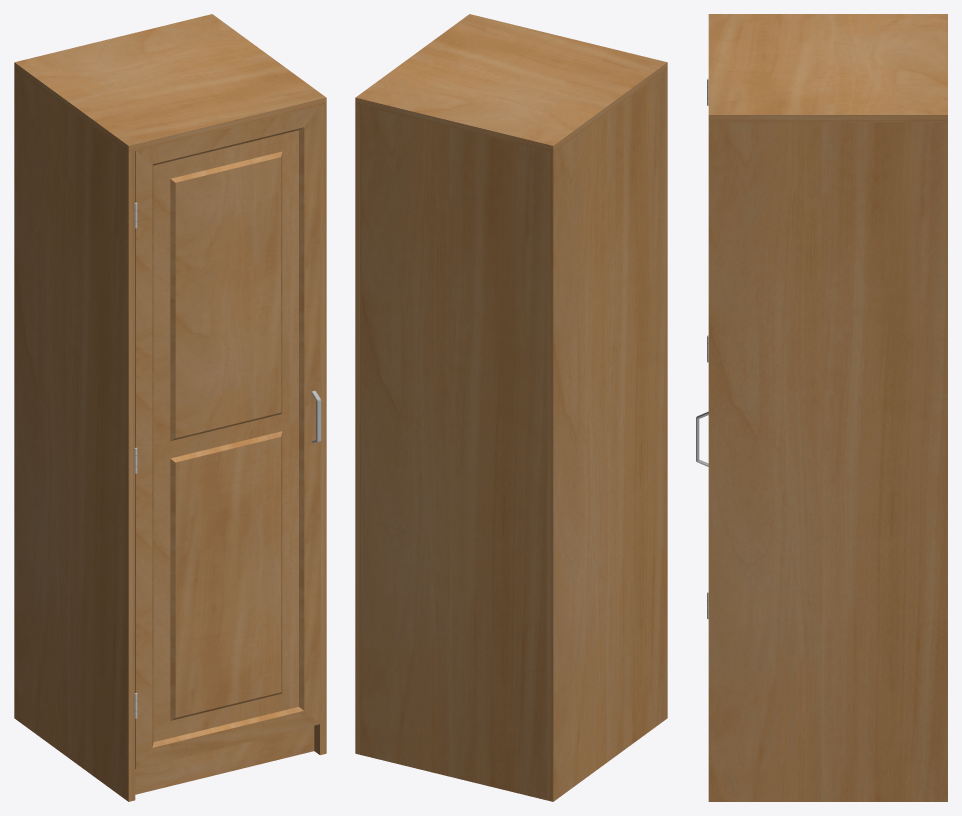
The model's file is wardrobe-hanging.glb.
3 views of the same model, side by side, from view 1: azimuth 30°, elevation 25°; view 2: azimuth 150°, elevation 25°; view 3: azimuth 270°, elevation 25° (orthographic). The views are drawn at different scales.
Parts seen in each view (by area): view 1: symbol; view 2: symbol; view 3: symbol.
Boxes of the visible parts, x1=… form: symbol: x1=14, y1=14, x2=326, y2=801; symbol: x1=355, y1=14, x2=667, y2=801; symbol: x1=696, y1=14, x2=947, y2=801.
Bounding box in the file's own units: 0.6 × 1.9 × 0.631.
Materials: 8 (3 with a texture image).
